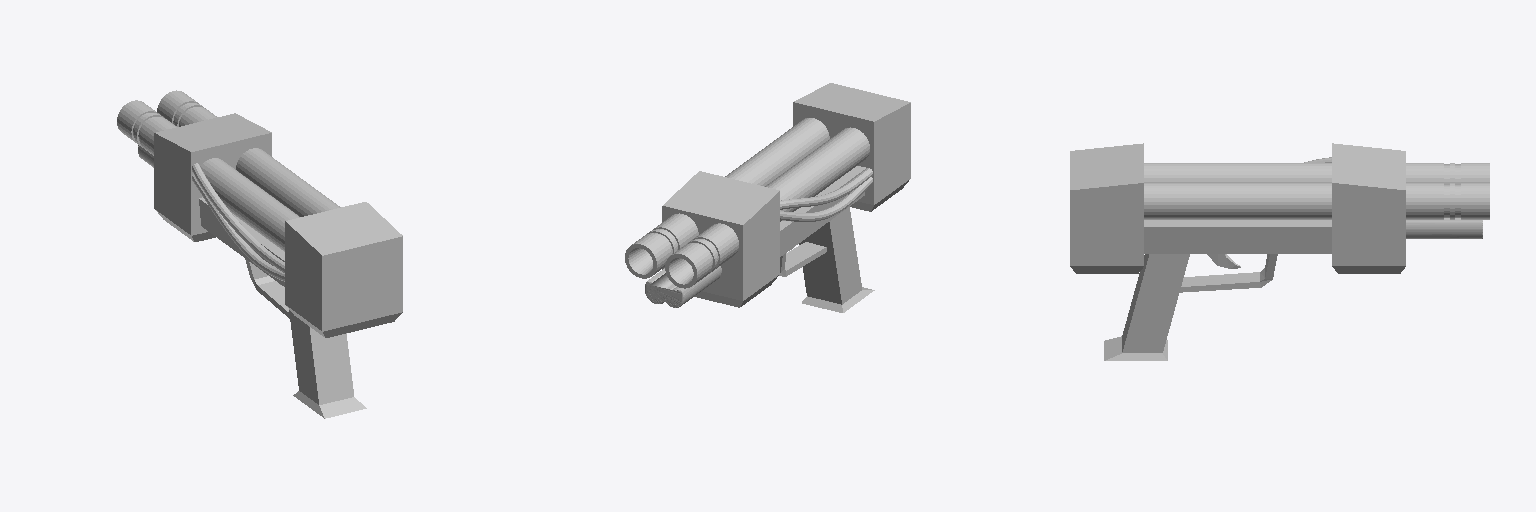
The model's file is Gun.obj.
3 renders of one model, left to right at view 1: azimuth 30°, elevation 25°; view 2: azimuth 150°, elevation 25°; view 3: azimuth 270°, elevation 25°, orthographic.
Visible parts, largest first — view 1: Cube.001, Cube, Cylinder.002, Cube.004, Cylinder.001, NurbsPath, Cube.002, NurbsPath.001, Cube.005; view 2: Cube, Cube.001, Cylinder.002, Cylinder.001, Cube.004, Cube.002, Text, NurbsPath, NurbsPath.001, Cube.005; view 3: Cylinder.001, Cube, Cube.001, Cube.002, Cube.004, Cylinder.002, Cube.005, Text.
Boxes of the visible parts, box(x1,y1,x2,y2) form: Cube.001: box(285, 202, 402, 337); Cube: box(154, 113, 271, 241); Cylinder.002: box(117, 100, 299, 251); Cube.004: box(289, 310, 366, 418); Cylinder.001: box(157, 90, 340, 216); NurbsPath: box(192, 163, 284, 272); Cube.002: box(199, 197, 284, 286); NurbsPath.001: box(192, 174, 284, 281); Cube.005: box(245, 259, 289, 318); Cube: box(662, 171, 779, 307); Cube.001: box(793, 83, 910, 211); Cylinder.002: box(665, 127, 869, 288); Cylinder.001: box(625, 118, 829, 278); Cube.004: box(799, 207, 874, 312); Cube.002: box(780, 166, 866, 256); Text: box(645, 266, 721, 307); NurbsPath: box(780, 168, 872, 209); NurbsPath.001: box(780, 177, 872, 221); Cube.005: box(779, 242, 826, 276); Cylinder.001: box(1144, 182, 1489, 219); Cube: box(1332, 143, 1405, 273); Cube.001: box(1070, 143, 1143, 273); Cube.002: box(1144, 220, 1331, 253); Cube.004: box(1104, 254, 1189, 360); Cylinder.002: box(1144, 163, 1489, 183); Cube.005: box(1180, 254, 1277, 292); Text: box(1406, 218, 1482, 238).
Size of the model in its own units: 5.25 by 11.11 by 22.48.